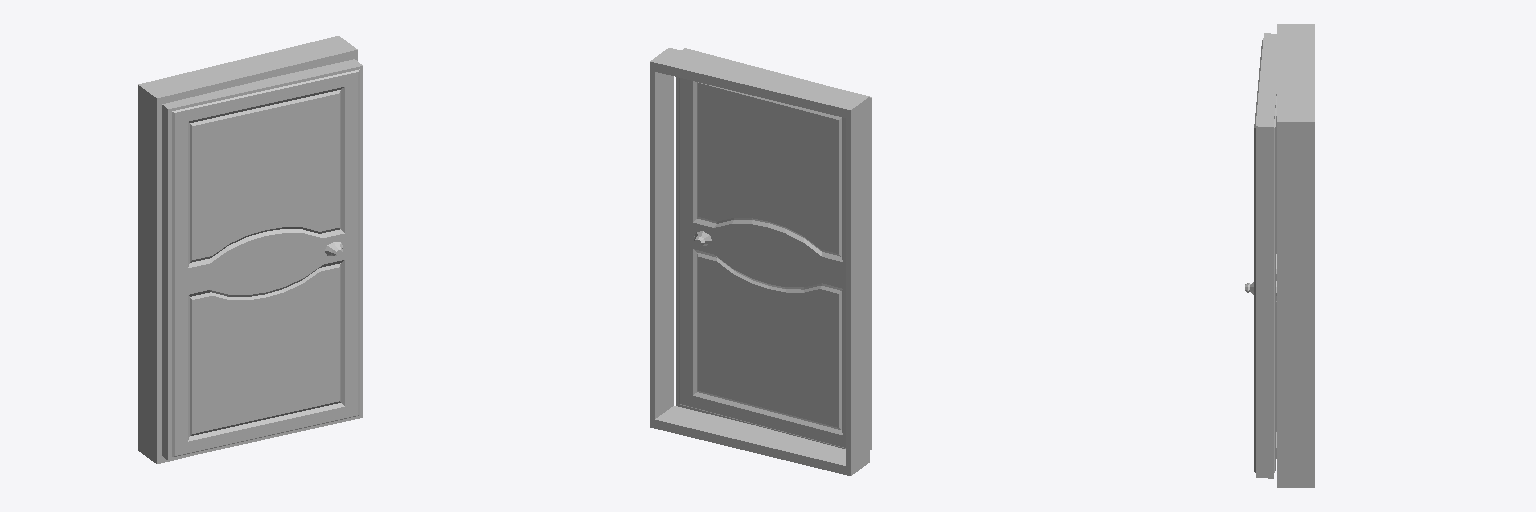
File: drzwiok_000037.obj
3 renders of one model, left to right at view 1: azimuth 30°, elevation 25°; view 2: azimuth 150°, elevation 25°; view 3: azimuth 270°, elevation 25°, orthographic.
Parts seen in each view (by area): view 1: Door_4.001_Cube.001, Kostka; view 2: Door_4.001_Cube.001, Kostka; view 3: Kostka, Door_4.001_Cube.001.
Boxes of the visible parts, <box> form: Door_4.001_Cube.001: <box>162,59,362,460</box>; Kostka: <box>138,36,357,463</box>; Door_4.001_Cube.001: <box>676,48,871,449</box>; Kostka: <box>650,48,869,475</box>; Kostka: <box>1277,24,1314,487</box>; Door_4.001_Cube.001: <box>1245,33,1276,478</box>.
Size of the model in its own units: 0.7416 by 1.29 by 0.2257.